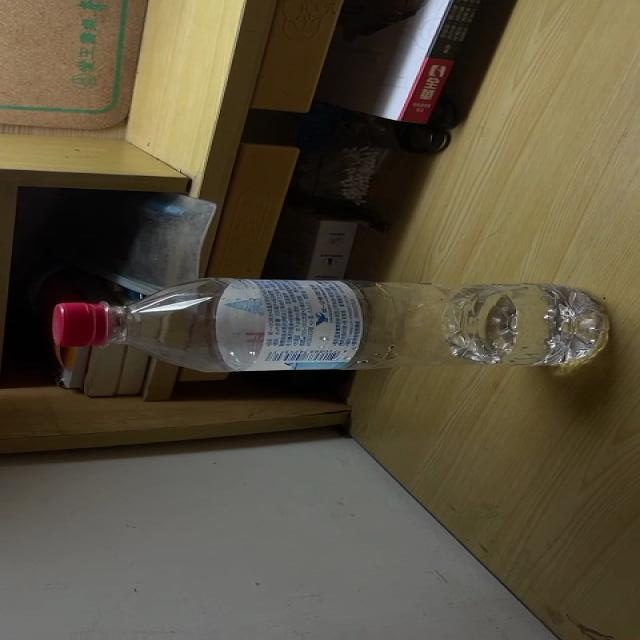Water: (52, 280, 608, 372)
